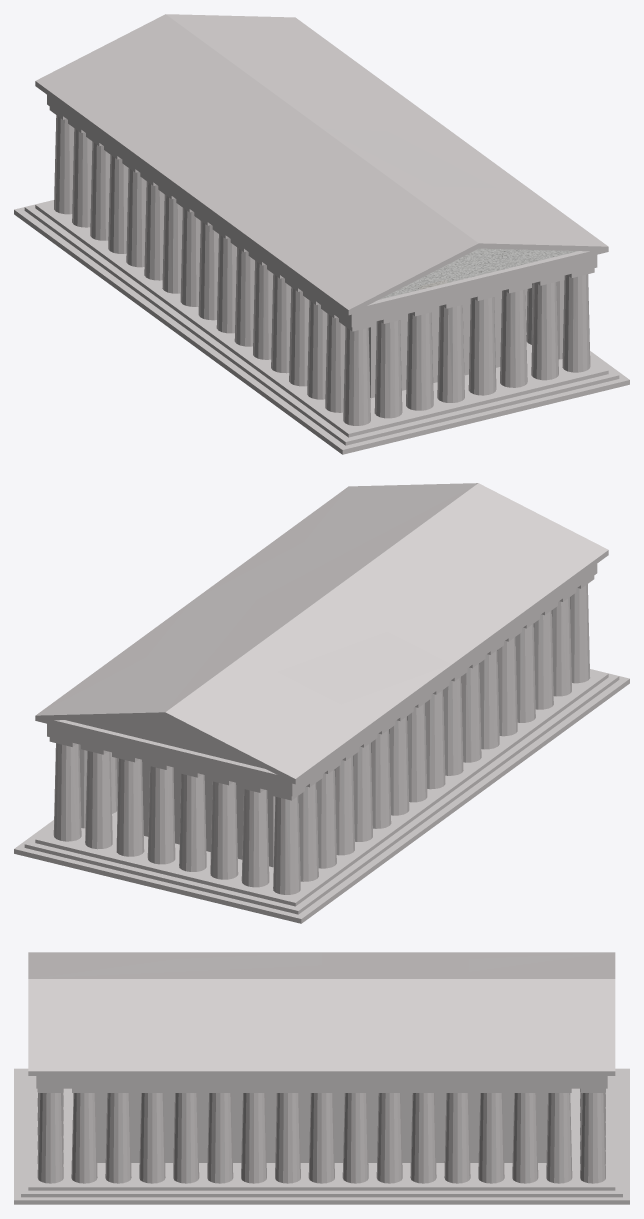
Rendered from PARTHENON.gltf.
The picture shows the model from 3 angles, top to bottom: view 1: azimuth 30°, elevation 25°; view 2: azimuth 150°, elevation 25°; view 3: azimuth 270°, elevation 25°; orthographic projection. The views are drawn at different scales.
Size of the model in its own units: 0.5117 by 0.2905 by 1.01.
Materials: 2 (1 with a texture image).
